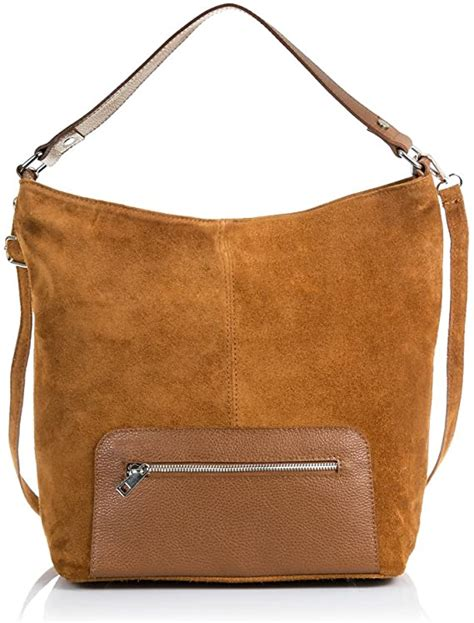gamuza: (8, 171, 469, 581)
